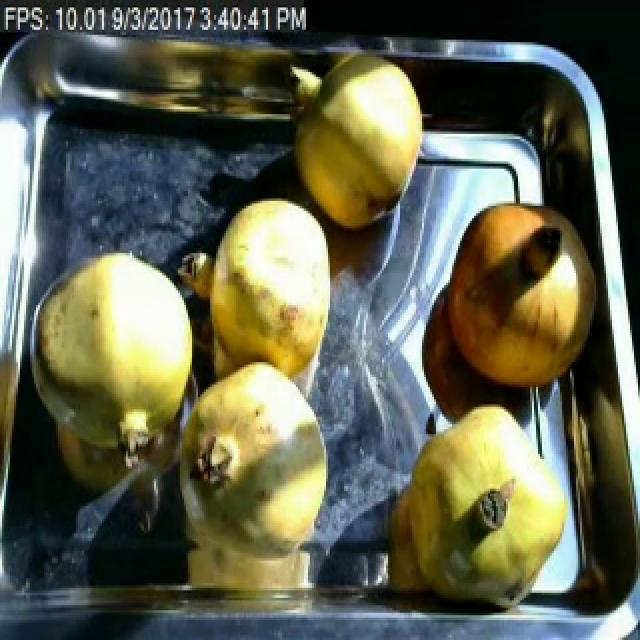fruit: (16, 233, 216, 474), (380, 390, 582, 610), (434, 191, 604, 399), (192, 191, 346, 387), (286, 50, 432, 238), (190, 347, 324, 486)
